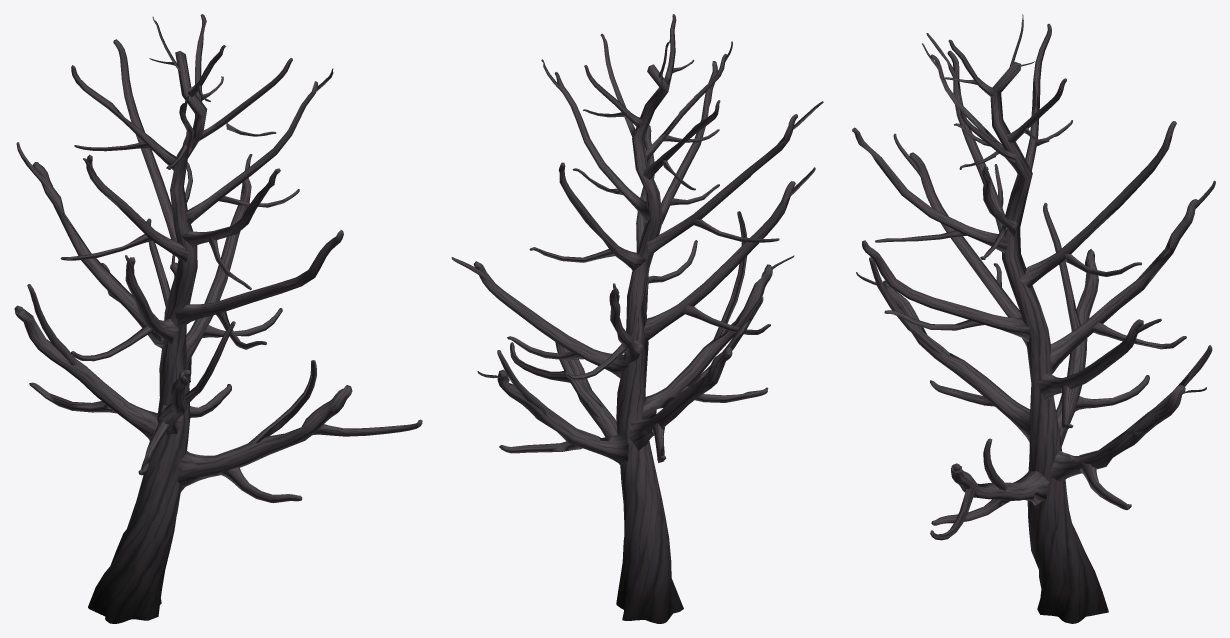
File: arbre-mort.lod1.glb
3 views of the same model, side by side, from view 1: azimuth 30°, elevation 25°; view 2: azimuth 150°, elevation 25°; view 3: azimuth 270°, elevation 25° (orthographic). The views are drawn at different scales.
Parts seen in each view (by area): view 1: DeadTree_2; view 2: DeadTree_2; view 3: DeadTree_2.
Part boxes in pixels (x1,y1,x2,y2): DeadTree_2: (14,14,422,623); DeadTree_2: (451,14,823,623); DeadTree_2: (852,14,1215,623).
Size of the model in its own units: 6.73 by 11.49 by 6.38.
1 material, 1 textured.
